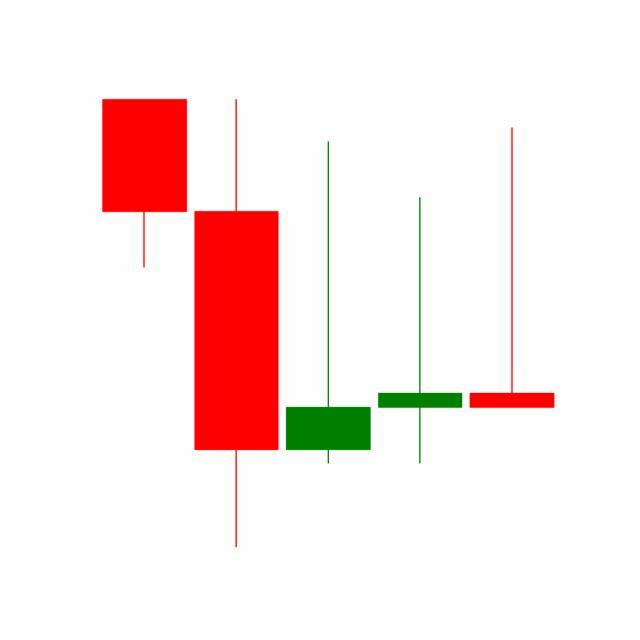Gravestone Doji: (374, 195, 468, 467)
